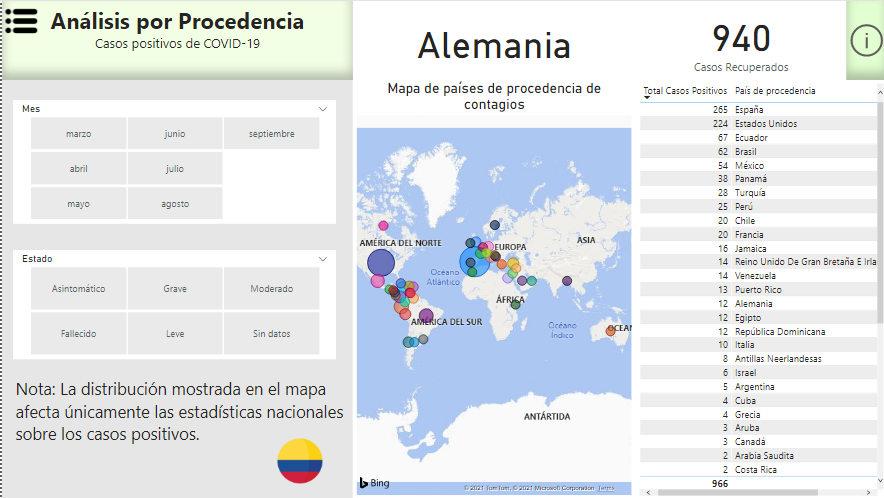

This screenshot's page, from the dashboard's own definition file:
{"tool":"powerbi","page":{"name":"Análisis por País Procedencia","canvas":[1280,720],"ordinal":3},"visuals":[{"type":"map","title":"Mapa de países de procedencia de contagios","fields":{"Category":["DimPaísProcedencia.País de procedencia"],"Size":["Fact Casos Covid.Total Casos Positivos"],"Series":["DimPaísProcedencia.País de procedencia"]},"box":[507.6,114.5,408.4,605],"z":3000},{"type":"textbox","box":[0,114.2,507.5,605.8],"z":4000},{"type":"slicer","fields":{"Values":["DimNotificacion.Mes"]},"box":[15.9,143.1,467,179.3],"z":5000},{"type":"tableEx","fields":{"Values":["Fact Casos Covid.Total Casos Positivos","DimPaísProcedencia.País de procedencia"]},"box":[916.6,114.2,362.9,605.8],"z":6000},{"type":"slicer","fields":{"Values":["DimEstado.Estado"]},"box":[15.9,360,467,157.6],"z":7000},{"type":"textbox","box":[0,0,507.5,114.2],"z":8000},{"type":"actionButton","box":[1219.5,0,60.5,114.2],"z":9000},{"type":"card","fields":{"Values":["Min(DimPaísProcedencia.País de procedencia)"]},"box":[507.5,0,409.2,114.2],"z":10000},{"type":"card","fields":{"Values":["Fact Casos Covid.Casos Recuperados"]},"box":[916.6,0,303.6,114.2],"z":11000},{"type":"image","box":[393.3,627.5,75.2,75.2],"z":12000},{"type":"image","box":[0,0,56.4,57.8],"z":15000}]}

Visuals, with their boxes in screenshot pixels (x1, y1, x2, y2), scaled from the page's 1280x720 canvas onto the 884x498 screenshot:
"Mapa de países de procedencia de contagios" map: region(351, 79, 633, 497)
textbox: region(0, 79, 350, 497)
slicer - DimNotificacion.Mes: region(11, 99, 334, 223)
tableEx - Fact Casos Covid.Total Casos Positivos x DimPaísProcedencia.País de procedencia: region(633, 79, 883, 497)
slicer - DimEstado.Estado: region(11, 249, 334, 358)
textbox: region(0, 0, 350, 79)
actionButton: region(842, 0, 883, 79)
card - Min(DimPaísProcedencia.País de procedencia): region(350, 0, 633, 79)
card - Fact Casos Covid.Casos Recuperados: region(633, 0, 843, 79)
image: region(272, 434, 324, 486)
image: region(0, 0, 39, 40)
